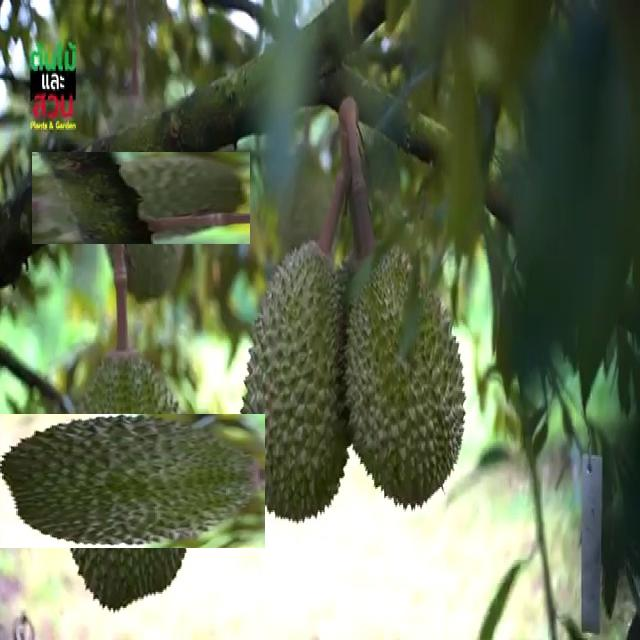durian: (26, 380, 230, 584), (340, 240, 470, 511), (240, 238, 358, 528), (64, 120, 219, 276)
